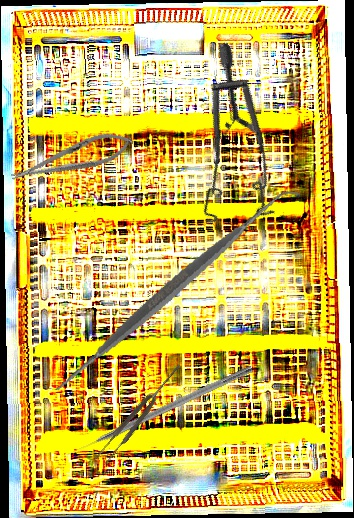Hook Surgical: (64, 363, 255, 459)
Needle Holder: (7, 125, 137, 191)
Spatula Surgical: (43, 157, 300, 424)
Speculum: (129, 39, 318, 248)
Tissue Forceps: (93, 360, 187, 467)
